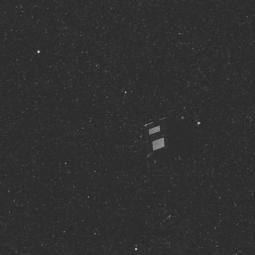proba_3_ocs: (140, 96, 220, 162)
